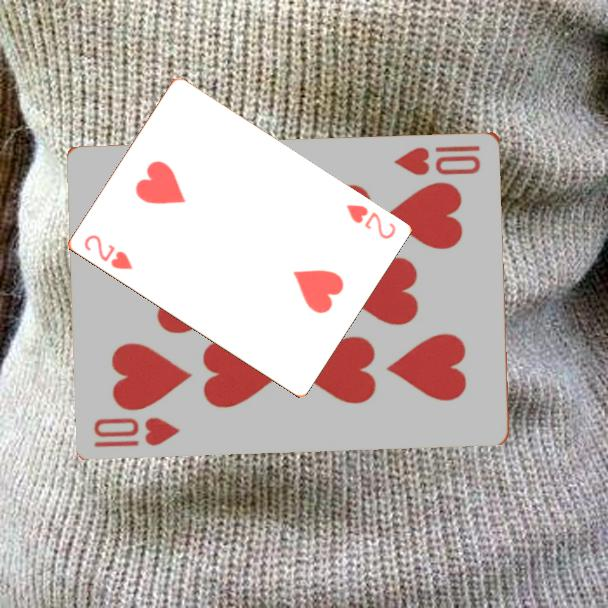h02: (80, 231, 135, 273), (342, 201, 398, 242)
h10: (391, 141, 484, 178), (91, 413, 182, 450)
